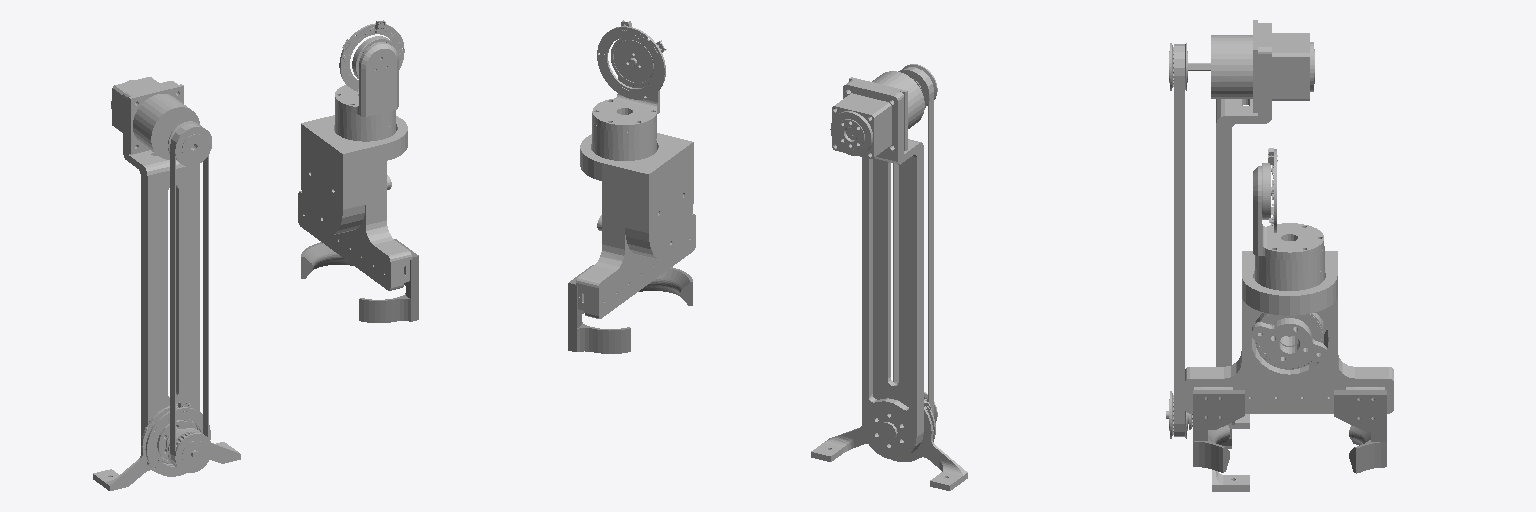
robot.urdf — robot_description:
<?xml version="1.0" encoding="utf-8"?>
<!-- This URDF was automatically created by SolidWorks to URDF Exporter! Originally created by [author] ([email redacted]) 
     Commit Version: 1.6.0-4-g7f85cfe  Build Version: 1.6.7995.38578
     For more information, please see http://wiki.ros.org/sw_urdf_exporter -->
<robot
  name="robot_description">

<!-- 定义一个隐式的“world”链接 -->
  <link name="world"/>
  <joint name="world_to_base" type="fixed">
    <parent link="world"/>
    <child link="base_link"/>
    <origin xyz="0 0 0" rpy="0 0 0"/>
  </joint>

  <link
    name="base_link">
    <inertial>
      <origin
        xyz="-0.104639487598817 0.022357250611096 0.0699459886454192"
        rpy="0 0 0" />
      <mass
        value="7.14346940014238" />
      <inertia
        ixx="0.0275309252217103"
        ixy="-8.6199795754766E-06"
        ixz="0.00017415868013956"
        iyy="0.0245686621314588"
        iyz="-1.55447858636492E-05"
        izz="0.0201933806933674" />
    </inertial>
    <visual>
      <origin
        xyz="0 0 0"
        rpy="0 0 0" />
      <geometry>
        <mesh
          filename="package://robot_description/meshes/base_link.STL" />
      </geometry>
      <material
        name="">
        <color
          rgba="0.752941176470588 0.752941176470588 0.752941176470588 1" />
      </material>
    </visual>
    <collision>
      <origin
        xyz="0 0 0"
        rpy="0 0 0" />
      <geometry>
        <mesh
          filename="package://robot_description/meshes/base_link.STL" />
      </geometry>
    </collision>
  </link>
  <link
    name="link1">
    <inertial>
      <origin
        xyz="-0.000148114458909443 0.000248847888860815 0.0829945908163572"
        rpy="0 0 0" />
      <mass
        value="0.669152126885544" />
      <inertia
        ixx="0.000617797577293175"
        ixy="-5.14226040265222E-05"
        ixz="1.66921299111368E-07"
        iyy="0.00060071252604216"
        iyz="-2.52768289972489E-06"
        izz="0.000564548697216278" />
    </inertial>
    <visual>
      <origin
        xyz="0 0 0"
        rpy="0 0 0" />
      <geometry>
        <mesh
          filename="package://robot_description/meshes/link1.STL" />
      </geometry>
      <material
        name="">
        <color
          rgba="0.752941176470588 0.752941176470588 0.752941176470588 1" />
      </material>
    </visual>
    <collision>
      <origin
        xyz="0 0 0"
        rpy="0 0 0" />
      <geometry>
        <mesh
          filename="package://robot_description/meshes/link1.STL" />
      </geometry>
    </collision>
  </link>
  <joint
    name="joint1"
    type="revolute">
    <origin
      xyz="0 0 0"
      rpy="0 0 0" />
    <parent
      link="base_link" />
    <child
      link="link1" />
    <axis
      xyz="0 0 1" />
    <limit
      lower="-3.14"
      upper="1"
      effort="100"
      velocity="1" />
  </joint>
  <link
    name="link2">
    <inertial>
      <origin
        xyz="-6.69607260569971E-06 0.125909518881389 0.0325276828056391"
        rpy="0 0 0" />
      <mass
        value="0.245621615505831" />
      <inertia
        ixx="0.00119230661894527"
        ixy="1.22766309242474E-08"
        ixz="-1.70415991092217E-09"
        iyy="5.86694773185132E-05"
        iyz="8.92296258518693E-05"
        izz="0.00121141865304698" />
    </inertial>
    <visual>
      <origin
        xyz="0 0 0"
        rpy="0 0 0" />
      <geometry>
        <mesh
          filename="package://robot_description/meshes/link2.STL" />
      </geometry>
      <material
        name="">
        <color
          rgba="0.752941176470588 0.752941176470588 0.752941176470588 1" />
      </material>
    </visual>
    <collision>
      <origin
        xyz="0 0 0"
        rpy="0 0 0" />
      <geometry>
        <mesh
          filename="package://robot_description/meshes/link2.STL" />
      </geometry>
    </collision>
  </link>
  <joint
    name="joint2"
    type="revolute">
    <origin
      xyz="0 0 0.1287"
      rpy="1.5707963267949 0 0" />
    <parent
      link="link1" />
    <child
      link="link2" />
    <axis
      xyz="0 0 -1" />
    <limit
      lower="-3.14"
      upper="0.8"
      effort="100"
      velocity="1" />
  </joint>
  <link
    name="link3">
    <inertial>
      <origin
        xyz="0.0138965214638596 -0.0408266877776776 -0.00856976377660978"
        rpy="0 0 0" />
      <mass
        value="0.149633690086611" />
      <inertia
        ixx="7.35413675966778E-05"
        ixy="1.55069761473879E-05"
        ixz="-1.0746117798365E-05"
        iyy="6.85329378793753E-05"
        iyz="1.75411610930592E-05"
        izz="8.78550222976087E-05" />
    </inertial>
    <visual>
      <origin
        xyz="0 0 0"
        rpy="0 0 0" />
      <geometry>
        <mesh
          filename="package://robot_description/meshes/link3.STL" />
      </geometry>
      <material
        name="">
        <color
          rgba="0.752941176470588 0.752941176470588 0.752941176470588 1" />
      </material>
    </visual>
    <collision>
      <origin
        xyz="0 0 0"
        rpy="0 0 0" />
      <geometry>
        <mesh
          filename="package://robot_description/meshes/link3.STL" />
      </geometry>
    </collision>
  </link>
  <joint
    name="joint3"
    type="revolute">
    <origin
      xyz="0 0.22 0"
      rpy="0 0 1.5707963267949" />
    <parent
      link="link2" />
    <child
      link="link3" />
    <axis
      xyz="0 0 1" />
    <limit
      lower="-3.14"
      upper="0.6"
      effort="100"
      velocity="1" />
  </joint>
  <link
    name="link4">
    <inertial>
      <origin
        xyz="1.08364236792169E-05 -0.00970550488291091 0.119202986452389"
        rpy="0 0 0" />
      <mass
        value="0.124846801253627" />
      <inertia
        ixx="0.000112541846660878"
        ixy="2.70584835351759E-09"
        ixz="-1.28967834932766E-08"
        iyy="0.000106442483203341"
        iyz="1.35817412267987E-05"
        izz="2.30513060400853E-05" />
    </inertial>
    <visual>
      <origin
        xyz="0 0 0"
        rpy="0 0 0" />
      <geometry>
        <mesh
          filename="package://robot_description/meshes/link4.STL" />
      </geometry>
      <material
        name="">
        <color
          rgba="0.752941176470588 0.752941176470588 0.752941176470588 1" />
      </material>
    </visual>
    <collision>
      <origin
        xyz="0 0 0"
        rpy="0 0 0" />
      <geometry>
        <mesh
          filename="package://robot_description/meshes/link4.STL" />
      </geometry>
    </collision>
  </link>
  <joint
    name="joint4"
    type="revolute">
    <origin
      xyz="0 0 0"
      rpy="1.5707963267949 0 0" />
    <parent
      link="link3" />
    <child
      link="link4" />
    <axis
      xyz="0 0 -1" />
    <limit
      lower="-3.14"
      upper="0.785"
      effort="100"
      velocity="1" />
  </joint>
  <link
    name="link5">
    <inertial>
      <origin
        xyz="0.0151160239699552 1.02137944803793E-05 0.0101506493498486"
        rpy="0 0 0" />
      <mass
        value="0.0454906138754859" />
      <inertia
        ixx="8.20500411022529E-06"
        ixy="6.16618916575177E-09"
        ixz="3.65621348537199E-06"
        iyy="1.49779308644152E-05"
        iyz="-5.3887456445791E-10"
        izz="1.42179828273889E-05" />
    </inertial>
    <visual>
      <origin
        xyz="0 0 0"
        rpy="0 0 0" />
      <geometry>
        <mesh
          filename="package://robot_description/meshes/link5.STL" />
      </geometry>
      <material
        name="">
        <color
          rgba="0.752941176470588 0.752941176470588 0.752941176470588 1" />
      </material>
    </visual>
    <collision>
      <origin
        xyz="0 0 0"
        rpy="0 0 0" />
      <geometry>
        <mesh
          filename="package://robot_description/meshes/link5.STL" />
      </geometry>
    </collision>
  </link>
  <joint
    name="joint5"
    type="revolute">
    <origin
      xyz="0 0 0.168499999999998"
      rpy="1.57079632679489 0 3.14159265358979" />
    <parent
      link="link4" />
    <child
      link="link5" />
    <axis
      xyz="0 0 1" />
    <limit
      lower="-3.14"
      upper="0.785"
      effort="100"
      velocity="1" />
  </joint>
  <link
    name="link6">
    <inertial>
      <origin
        xyz="-5.55111512312578E-17 1.38777878078145E-17 -0.0463899556868537"
        rpy="0 0 0" />
      <mass
        value="0.0271812481344181" />
      <inertia
        ixx="3.28834135753452E-06"
        ixy="-1.62406896634558E-21"
        ixz="1.81577506743978E-21"
        iyy="3.28834135753452E-06"
        iyz="-1.2062594219773E-21"
        izz="5.92981850337553E-06" />
    </inertial>
    <visual>
      <origin
        xyz="0 0 0"
        rpy="0 0 0" />
      <geometry>
        <mesh
          filename="package://robot_description/meshes/link6.STL" />
      </geometry>
      <material
        name="">
        <color
          rgba="0.752941176470588 0.752941176470588 0.752941176470588 1" />
      </material>
    </visual>
    <collision>
      <origin
        xyz="0 0 0"
        rpy="0 0 0" />
      <geometry>
        <mesh
          filename="package://robot_description/meshes/link6.STL" />
      </geometry>
    </collision>
  </link>
  <joint
    name="joint6"
    type="revolute">
    <origin
      xyz="0 0 0"
      rpy="1.57079632679489 0 -1.5707963267949" />
    <parent
      link="link5" />
    <child
      link="link6" />
    <axis
      xyz="0 0 1" />
    <limit
      lower="-3.14"
      upper="3.14"
      effort="100"
      velocity="1" />
  </joint>
  <link
    name="link_hand">
    <inertial>
      <origin
        xyz="0.00161715614228958 -0.00457033939810397 -0.0114698203583798"
        rpy="0 0 0" />
      <mass
        value="0.159305199837658" />
      <inertia
        ixx="0.000115374873473436"
        ixy="2.28195040322155E-08"
        ixz="6.94501241653804E-09"
        iyy="9.79010867933865E-05"
        iyz="-1.62460899539386E-06"
        izz="0.000178224259560207" />
    </inertial>
    <visual>
      <origin
        xyz="0 0 0"
        rpy="0 0 0" />
      <geometry>
        <mesh
          filename="package://robot_description/meshes/link_hand.STL" />
      </geometry>
      <material
        name="">
        <color
          rgba="0.752941176470588 0.752941176470588 0.752941176470588 1" />
      </material>
    </visual>
    <collision>
      <origin
        xyz="0 0 0"
        rpy="0 0 0" />
      <geometry>
        <mesh
          filename="package://robot_description/meshes/link_hand.STL" />
      </geometry>
    </collision>
  </link>
  <joint
    name="joint_hand"
    type="fixed">
    <origin
      xyz="0 0 -0.0934999999999999"
      rpy="1.5707963267949 0 -1.5707963267949" />
    <parent
      link="link6" />
    <child
      link="link_hand" />
    <axis
      xyz="0 0 0" />
    <limit
      lower="-3.14"
      upper="3.14"
      effort="0"
      velocity="0" />
  </joint>
  <link
    name="link_left">
    <inertial>
      <origin
        xyz="-0.0179265072850996 0.0440594673647828 0.000395613059763593"
        rpy="0 0 0" />
      <mass
        value="0.00926377813438083" />
      <inertia
        ixx="1.28223239525482E-06"
        ixy="2.49392987509507E-07"
        ixz="-4.76276205082436E-07"
        iyy="2.72326254806976E-06"
        iyz="-1.20159791898431E-08"
        izz="2.29338902229986E-06" />
    </inertial>
    <visual>
      <origin
        xyz="0 0 0"
        rpy="0 0 0" />
      <geometry>
        <mesh
          filename="package://robot_description/meshes/link_left.STL" />
      </geometry>
      <material
        name="">
        <color
          rgba="0.627450980392157 0.627450980392157 0.627450980392157 1" />
      </material>
    </visual>
    <collision>
      <origin
        xyz="0 0 0"
        rpy="0 0 0" />
      <geometry>
        <mesh
          filename="package://robot_description/meshes/link_left.STL" />
      </geometry>
    </collision>
  </link>
  <joint
    name="joint_left"
    type="prismatic">
    <origin
      xyz="0 -0.04 0"
      rpy="0 0 1.5707963267949" />
    <parent
      link="link_hand" />
    <child
      link="link_left" />
    <axis
      xyz="0 1 0" />
    <limit
      lower="-0.01"
      upper="0.01"
      effort="100"
      velocity="1" />
  </joint>
  <link
    name="link_right">
    <inertial>
      <origin
        xyz="0.0183365072850993 0.0441975506103265 0.000395635377088421"
        rpy="0 0 0" />
      <mass
        value="0.0092637781343808" />
      <inertia
        ixx="1.28223016424245E-06"
        ixy="-2.49392987509505E-07"
        ixz="4.76273519628528E-07"
        iyy="2.72326031705737E-06"
        iyz="-1.20131298102489E-08"
        izz="2.29338902229986E-06" />
    </inertial>
    <visual>
      <origin
        xyz="0 0 0"
        rpy="0 0 0" />
      <geometry>
        <mesh
          filename="package://robot_description/meshes/link_right.STL" />
      </geometry>
      <material
        name="">
        <color
          rgba="0.627450980392157 0.627450980392157 0.627450980392157 1" />
      </material>
    </visual>
    <collision>
      <origin
        xyz="0 0 0"
        rpy="0 0 0" />
      <geometry>
        <mesh
          filename="package://robot_description/meshes/link_right.STL" />
      </geometry>
    </collision>
  </link>
  <joint
    name="joint_right"
    type="prismatic">
    <origin
      xyz="0 -0.04 0"
      rpy="0 0 -1.5707963267949" />
    <parent
      link="link_hand" />
    <child
      link="link_right" />
    <axis
      xyz="0 1 0" />
    <limit
      lower="-0.01"
      upper="0.01"
      effort="100"
      velocity="1" />
  </joint>
</robot>

--- What the picture shows (computed from the rendered views, not written in the file) ---
Views: 3 orthographic renders of the robot side by side, from view 1: azimuth 30°, elevation 25°; view 2: azimuth 150°, elevation 25°; view 3: azimuth 270°, elevation 25°.
Robot: robot_description — 11 links, 10 joints (6 revolute, 2 prismatic, 2 fixed); root link world; default pose: every joint at zero.
Links seen in each view (by area): view 1: link2, link_hand, link5, link_left, link6, link_right; view 2: link2, link_hand, link5, link_right, link6, link_left; view 3: link2, link_hand, link5, link_right, link_left, link6.
Link boxes in pixels (box(x1,y1,x2,y2)): link2: box(93, 77, 240, 490); link_hand: box(298, 115, 411, 290); link5: box(335, 20, 404, 116); link_left: box(359, 239, 418, 322); link6: box(335, 104, 395, 141); link_right: box(301, 242, 353, 278); link2: box(811, 64, 967, 490); link_hand: box(576, 133, 695, 318); link5: box(592, 20, 666, 132); link_right: box(568, 265, 630, 353); link6: box(592, 120, 656, 160); link_left: box(639, 267, 692, 305); link2: box(1166, 20, 1314, 491); link_hand: box(1185, 251, 1393, 413); link5: box(1253, 148, 1323, 259); link_right: box(1334, 390, 1386, 473); link_left: box(1193, 390, 1244, 472); link6: box(1255, 246, 1324, 290).
Size in the robot's own frame: 0.2452 by 0.131 by 0.272 metres.
6 mesh visuals loaded from 10 distinct referenced files (6 binary STL); not drawn: 4 (reference not matched to a file when rendering).
